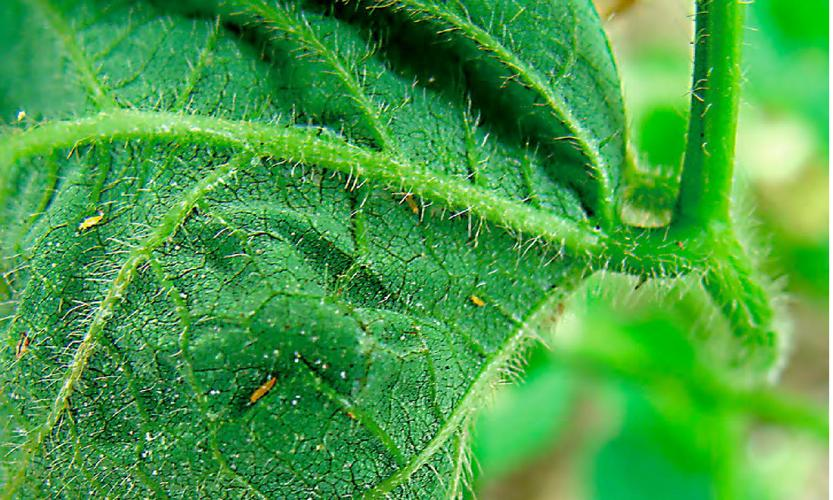thrips: (248, 375, 276, 403), (12, 331, 32, 360), (77, 215, 105, 230), (467, 293, 486, 308)
